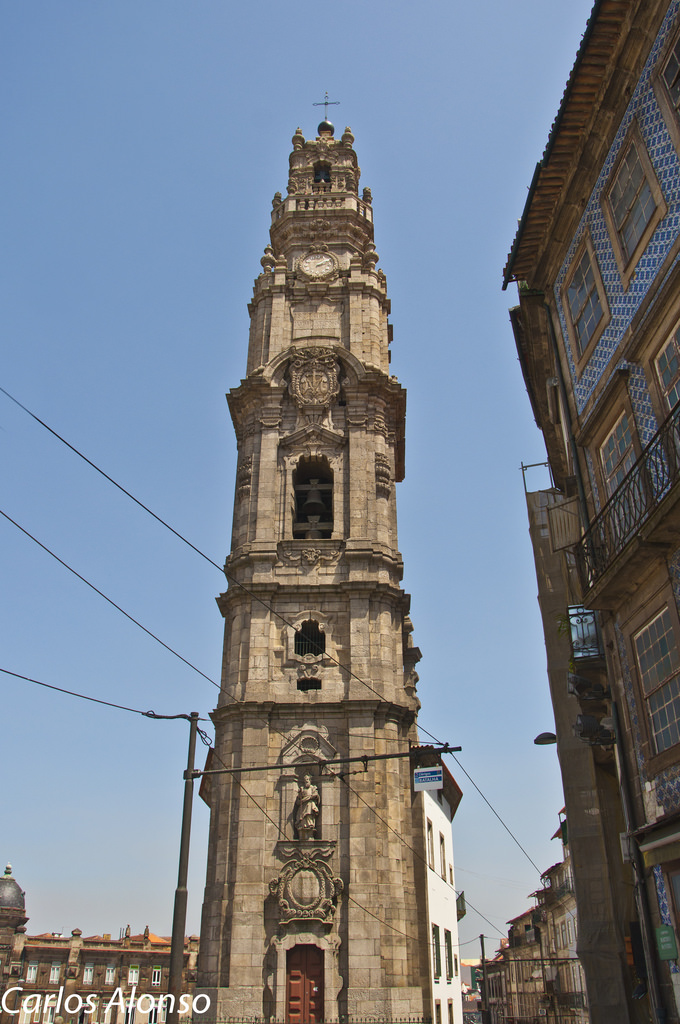clerigos: (199, 94, 432, 1023)
